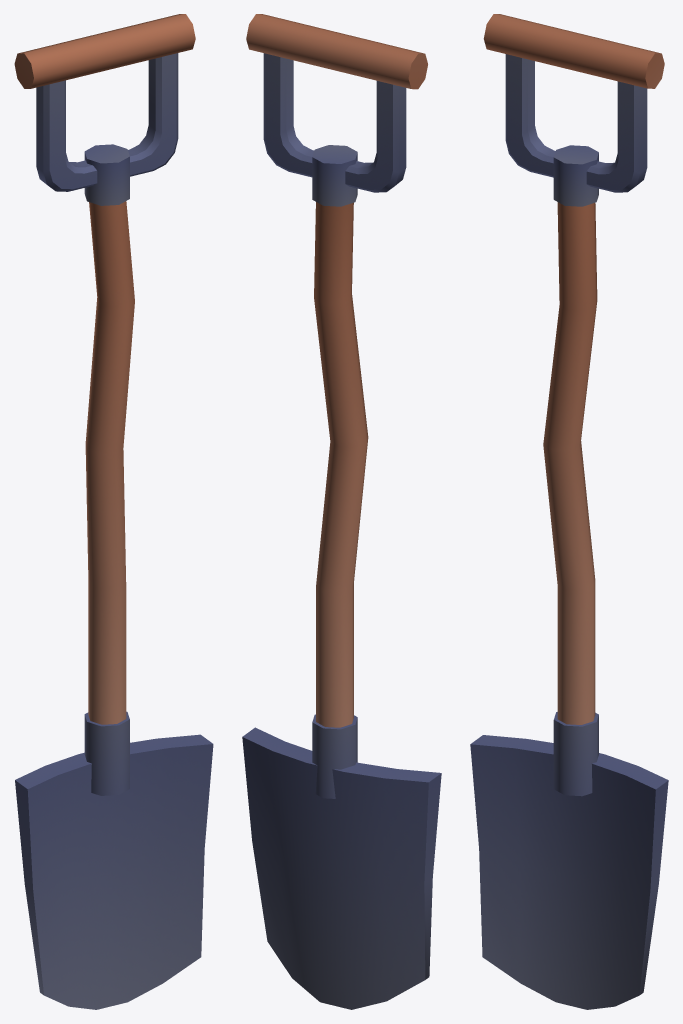
File: shovel.fbx
3 renders of one model, left to right at view 1: azimuth 30°, elevation 25°; view 2: azimuth 150°, elevation 25°; view 3: azimuth 330°, elevation 25°, orthographic.
Visible parts, largest first — view 1: shovel; view 2: shovel; view 3: shovel.
Part boxes in pixels (x1,y1,x2,y2): shovel: (14,14,213,1009); shovel: (242,14,441,1009); shovel: (470,14,668,1009).
Bounding box in the file's own units: 22.26 × 111 × 5.66.
